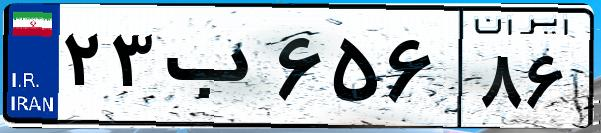2: (57, 26, 110, 100)
3: (110, 28, 158, 98)
5: (330, 28, 385, 110)
6: (270, 28, 330, 110), (385, 28, 445, 110), (525, 38, 570, 115)
8: (475, 38, 525, 113)
ب: (158, 20, 270, 120)
